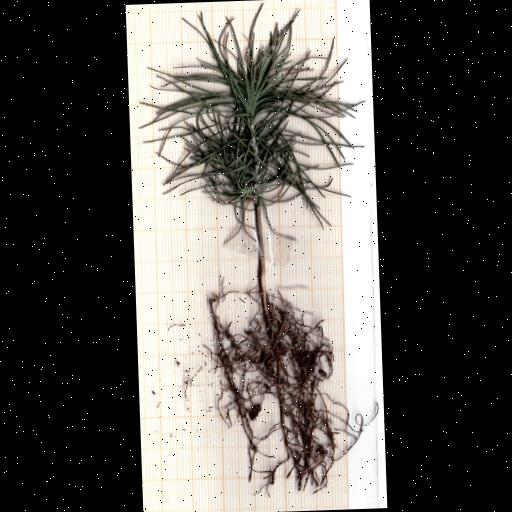flowerCedr: (152, 5, 358, 229)
rootCedr: (209, 281, 365, 495)
stemCedr: (254, 206, 269, 314)
